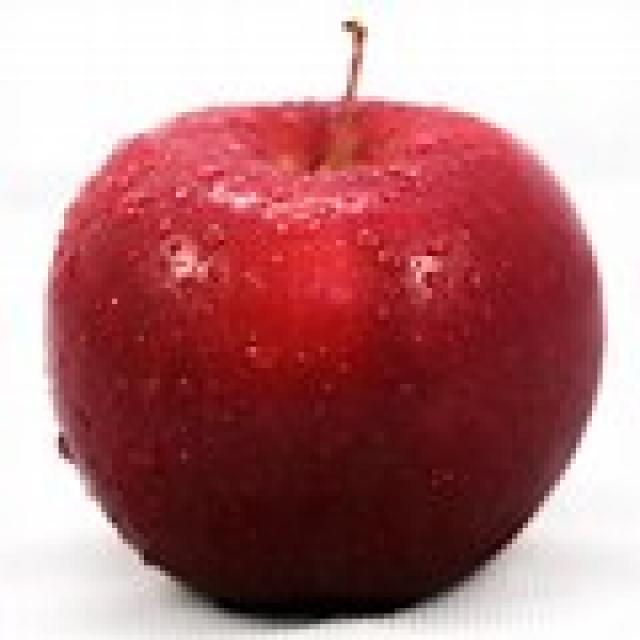apple: (42, 15, 607, 625)
